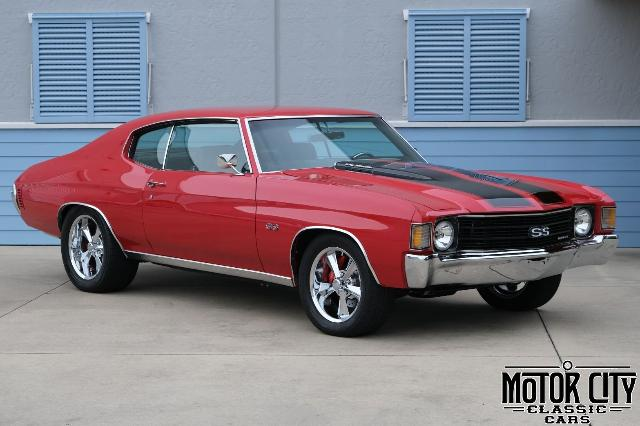chevelle-1972: (11, 107, 619, 337)
